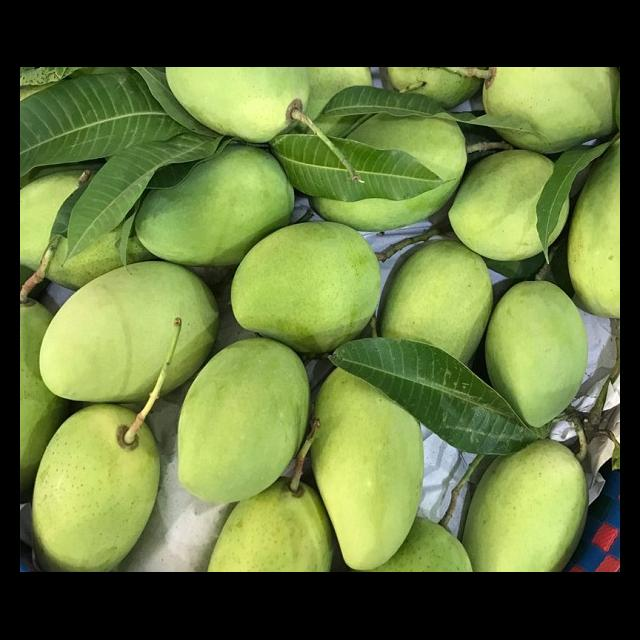xoai: (40, 260, 220, 405), (310, 359, 422, 571), (179, 337, 310, 503), (33, 404, 158, 572), (232, 222, 385, 351), (134, 146, 296, 266), (461, 440, 589, 569), (484, 280, 588, 429), (449, 142, 574, 259), (480, 67, 618, 151)
